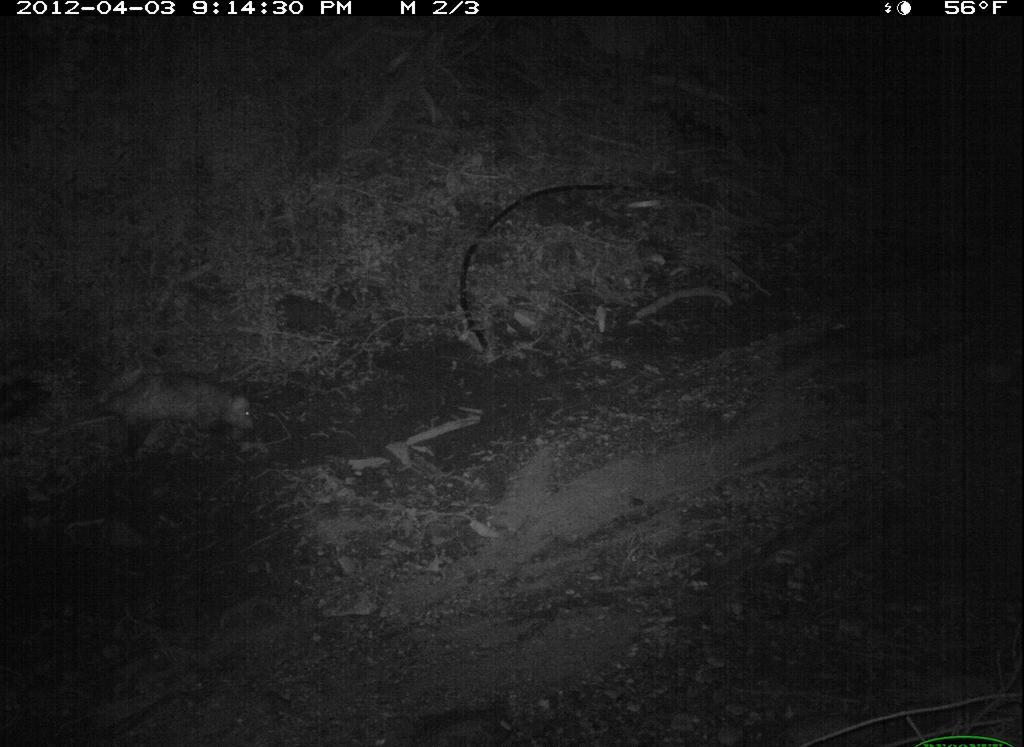opossum: (66, 364, 260, 459)
